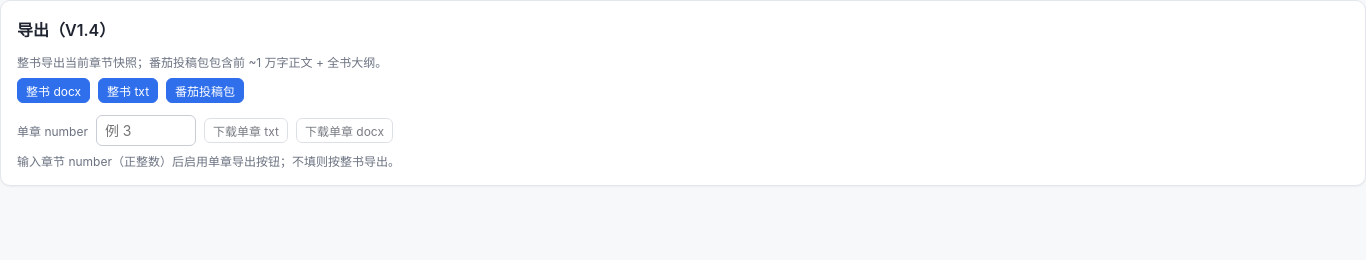
Test: ExportPanel (V1.4 / Sprint 16) › shows 404 error banner when backend returns 404
This screenshot has width=1366, height=260.
Click the button with test id "export-book-txt" at (128, 90), box [98,78,158,103]
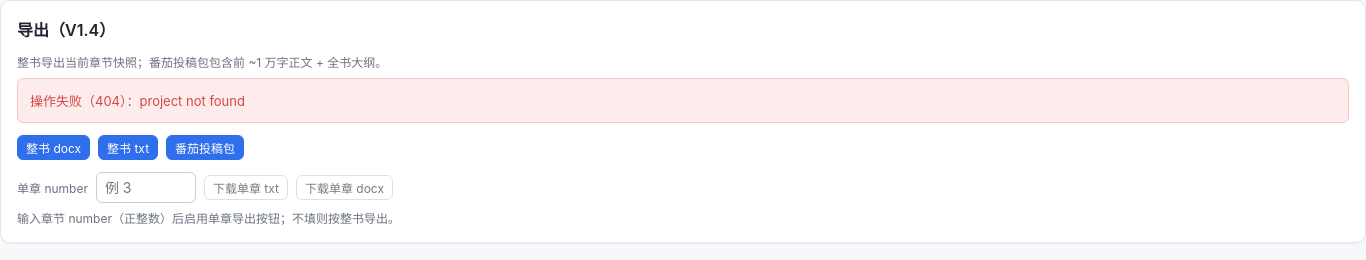
Result: the text "操作失败（404）：project not found" is shown at [17,78,1349,123]
